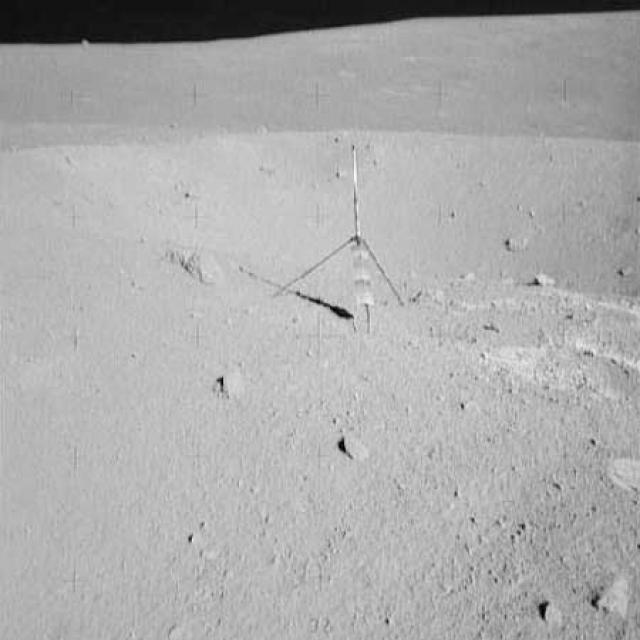artifact: (281, 139, 418, 326)
rock: (170, 241, 222, 291), (586, 570, 632, 617), (333, 428, 378, 468), (205, 361, 249, 397), (493, 233, 534, 259), (536, 594, 561, 628)
